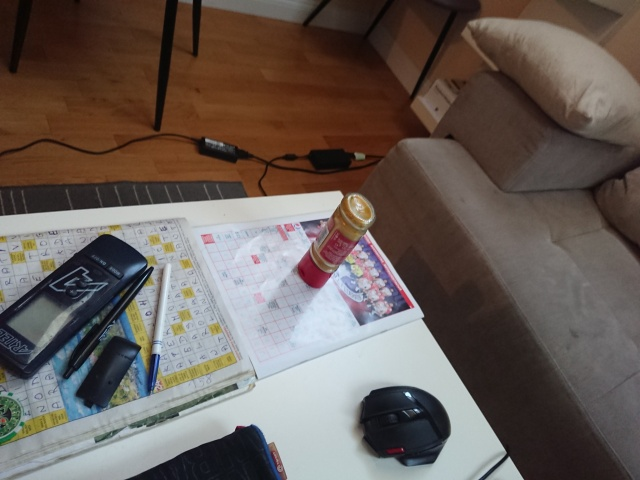Kotanyi Curry Spices Mix 70g: (295, 189, 378, 291)
